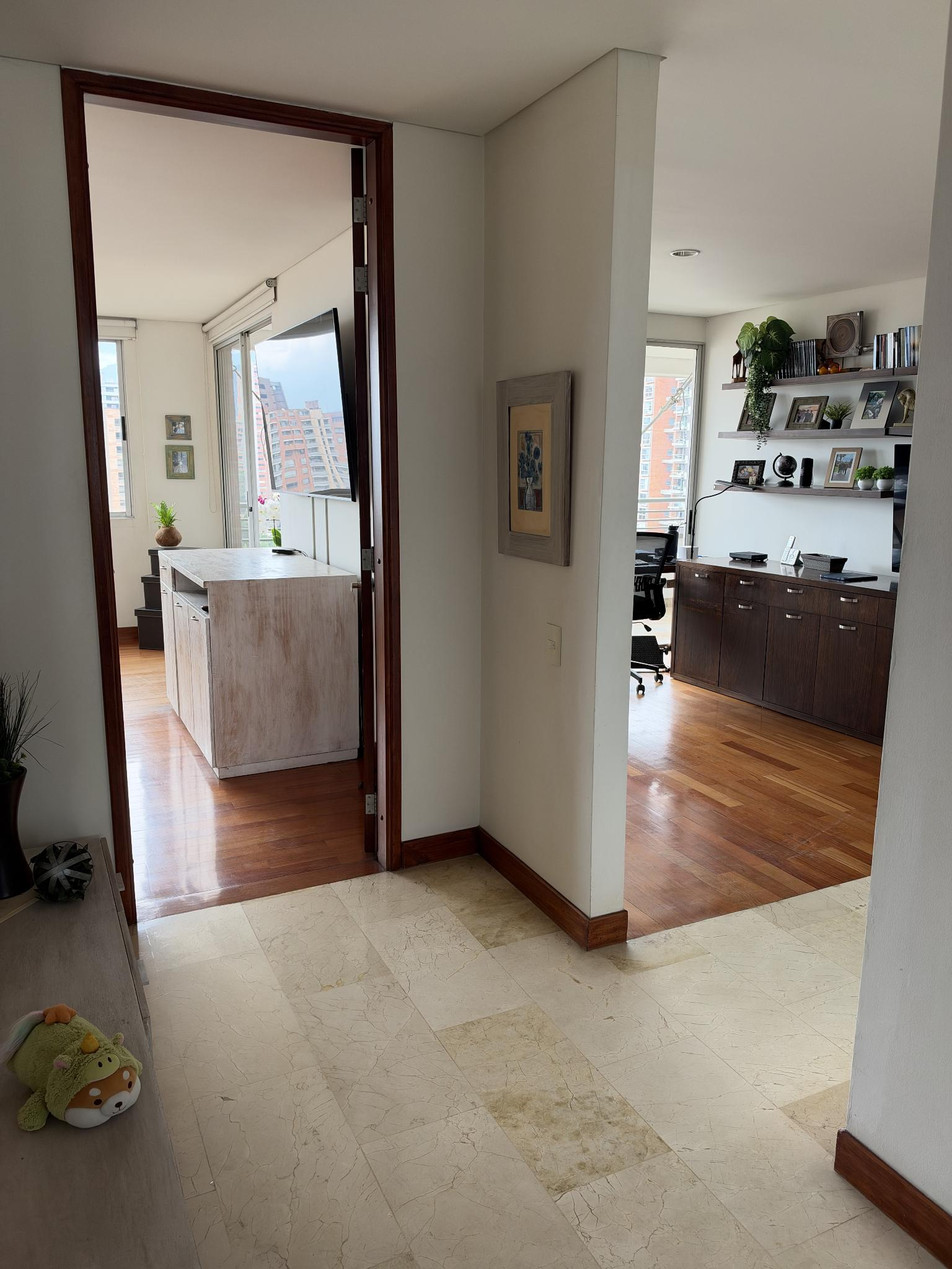peluche_martin: (2, 1003, 144, 1132)
